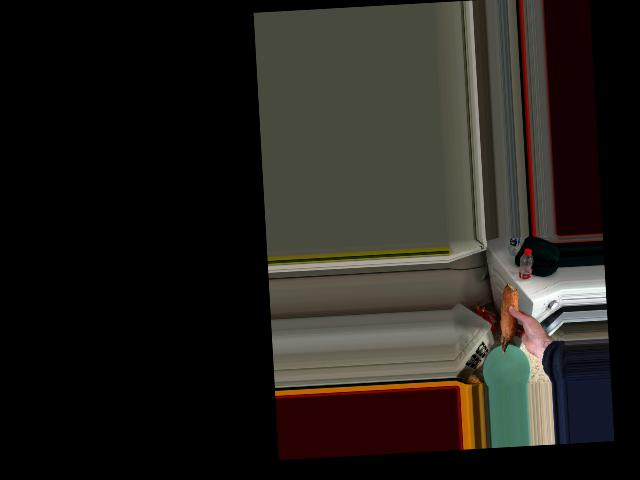sweet_potato: (496, 280, 518, 357)
